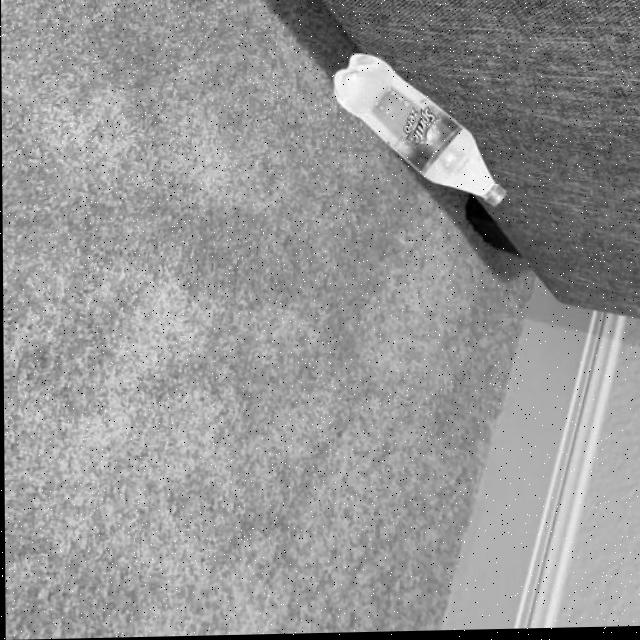bottle: (332, 50, 509, 212)
